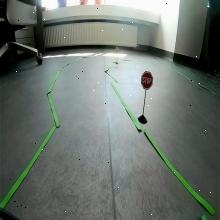stop: (141, 71, 153, 90)
